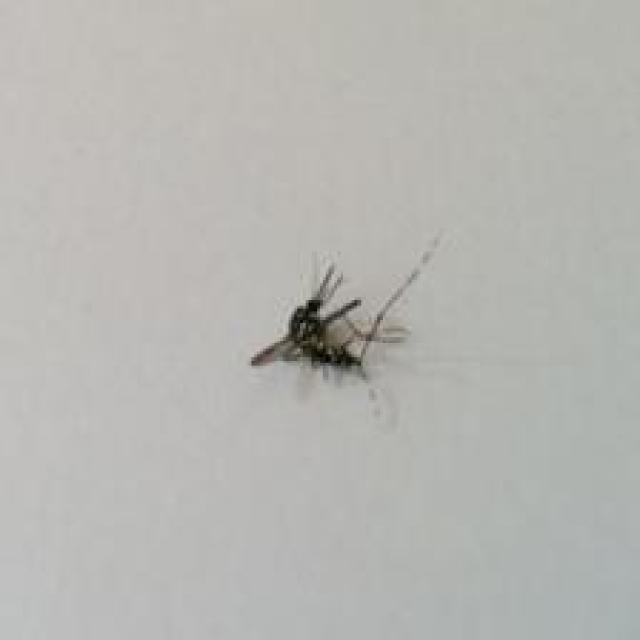Aedes albopictus: (248, 230, 443, 384)
